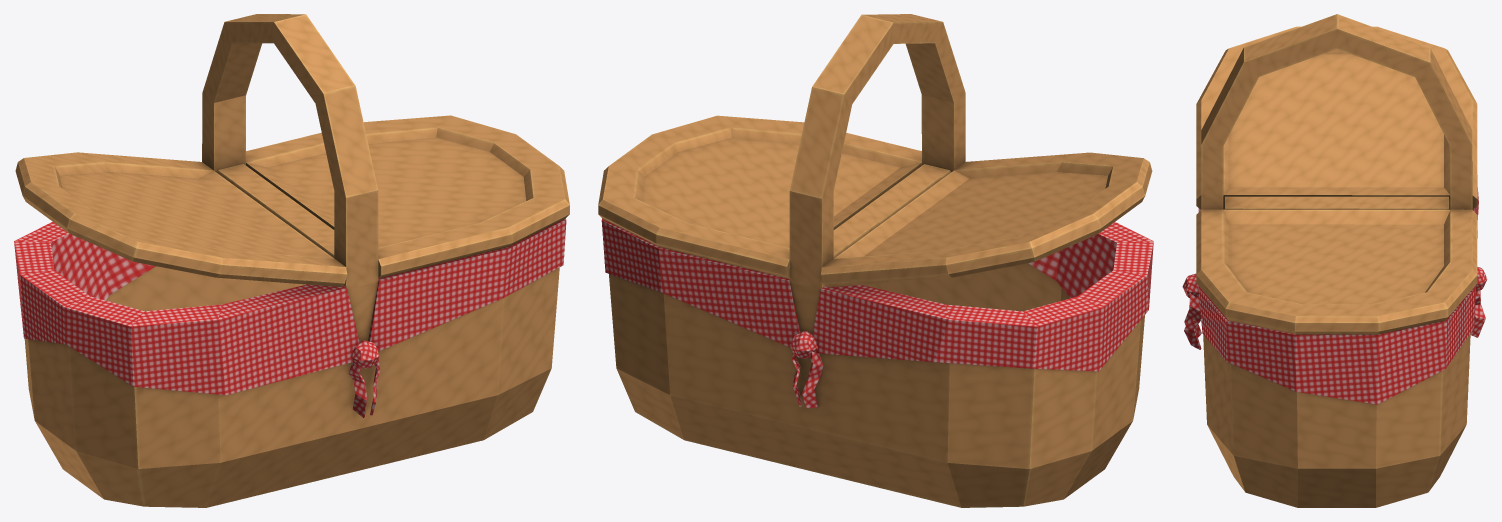
The model's file is Picnic Basket.glb.
3 views of the same model, side by side, from view 1: azimuth 30°, elevation 25°; view 2: azimuth 150°, elevation 25°; view 3: azimuth 270°, elevation 25° (orthographic). The views are drawn at different scales.
Parts seen in each view (by area): view 1: PicnicBasket_mesh; view 2: PicnicBasket_mesh; view 3: PicnicBasket_mesh.
Part boxes in pixels (<box>): PicnicBasket_mesh: <box>14,14,569,507</box>; PicnicBasket_mesh: <box>598,14,1153,507</box>; PicnicBasket_mesh: <box>1182,14,1487,507</box>.
Size of the model in its own units: 5.81 by 4.88 by 3.26.
Materials: 1 (1 with a texture image).
